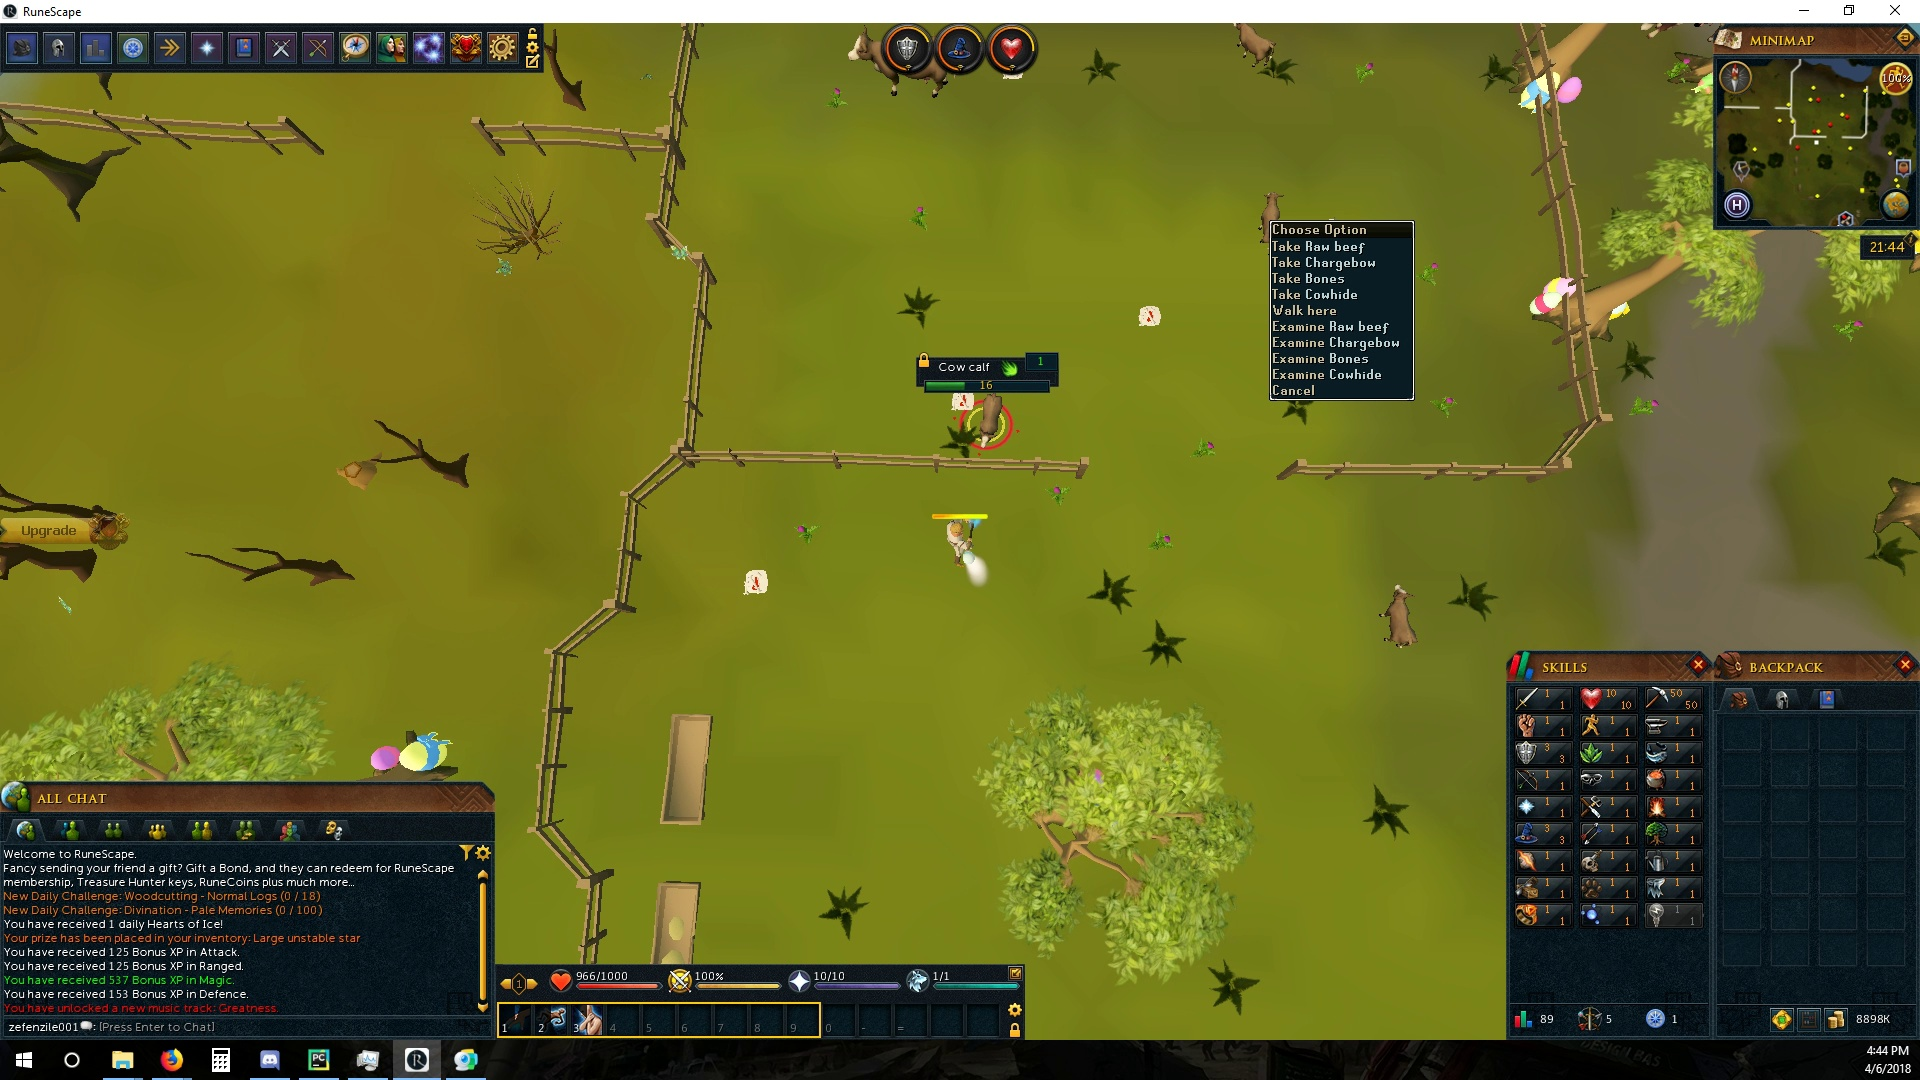calf: (1381, 584, 1419, 651), (1228, 24, 1275, 66), (971, 394, 1006, 448), (1259, 190, 1284, 243)
cow: (843, 36, 957, 102)
cow_drop: (738, 568, 773, 597), (1133, 305, 1164, 328), (949, 390, 975, 415)
